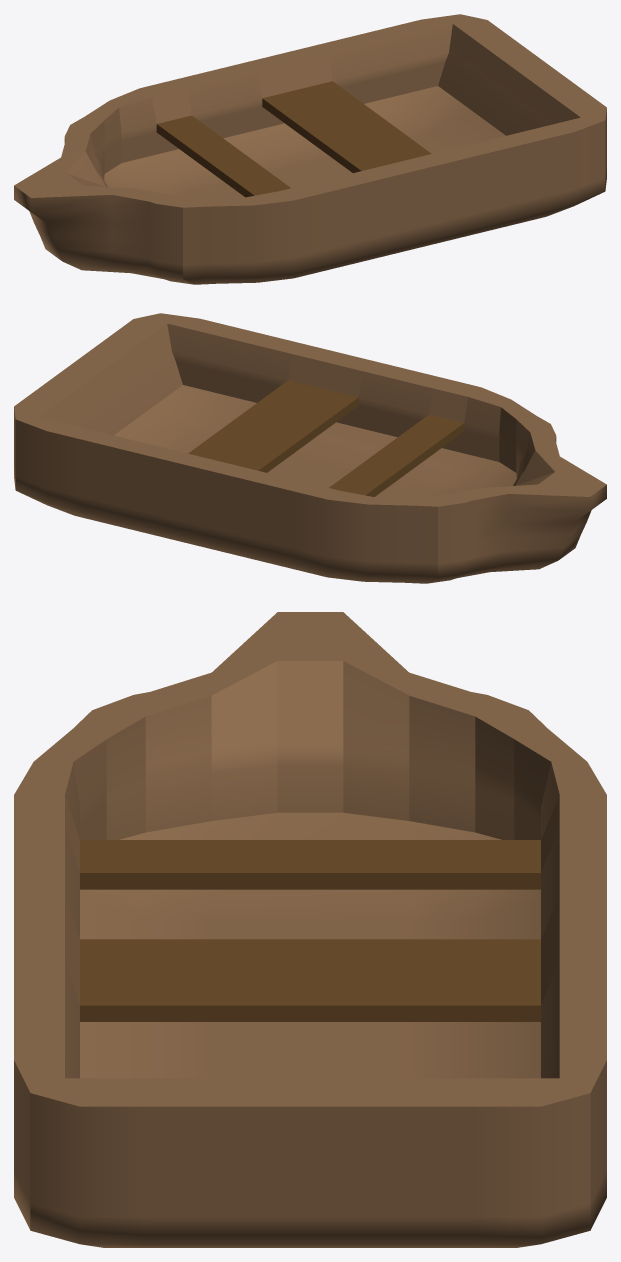
The model's file is Boat.fbx.
3 views of the same model, one above another, from view 1: azimuth 30°, elevation 25°; view 2: azimuth 150°, elevation 25°; view 3: azimuth 270°, elevation 25° (orthographic). The views are drawn at different scales.
Parts seen in each view (by area): view 1: pCube1; view 2: pCube1; view 3: pCube1.
Part boxes in pixels (x1,y1,x2,y2): pCube1: (14,14,606,284); pCube1: (14,313,606,583); pCube1: (14,612,606,1247).
Size of the model in its own units: 0.7032 by 0.1095 by 0.3563.
